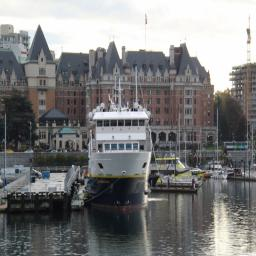cruises: (84, 79, 155, 217)
